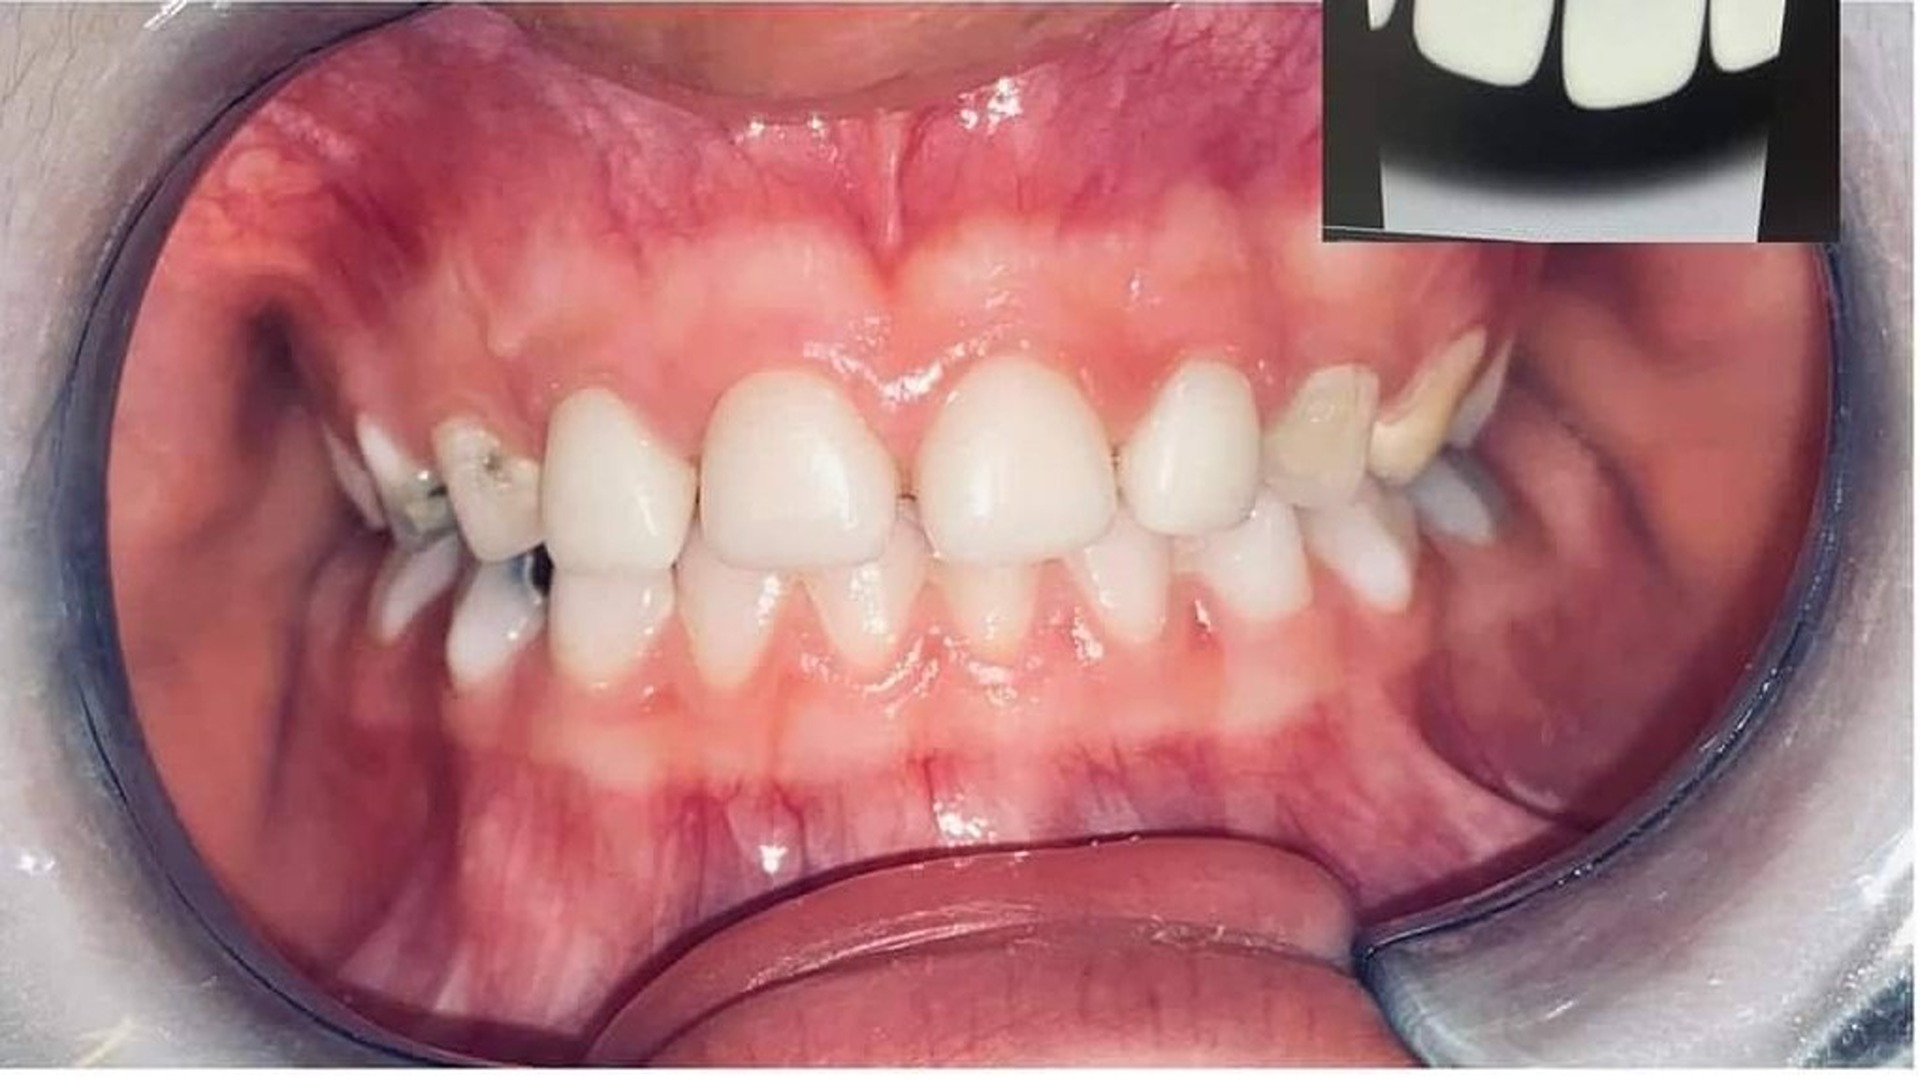tooth: (915, 356, 1118, 566), (699, 371, 899, 568), (541, 386, 698, 574), (1117, 359, 1261, 535), (1369, 324, 1513, 485), (796, 512, 928, 669), (674, 535, 791, 686), (1172, 498, 1313, 621), (1294, 480, 1419, 613), (433, 415, 545, 560), (549, 563, 675, 690), (1267, 363, 1379, 505), (444, 550, 543, 692), (1071, 510, 1170, 644), (928, 558, 1040, 666)
